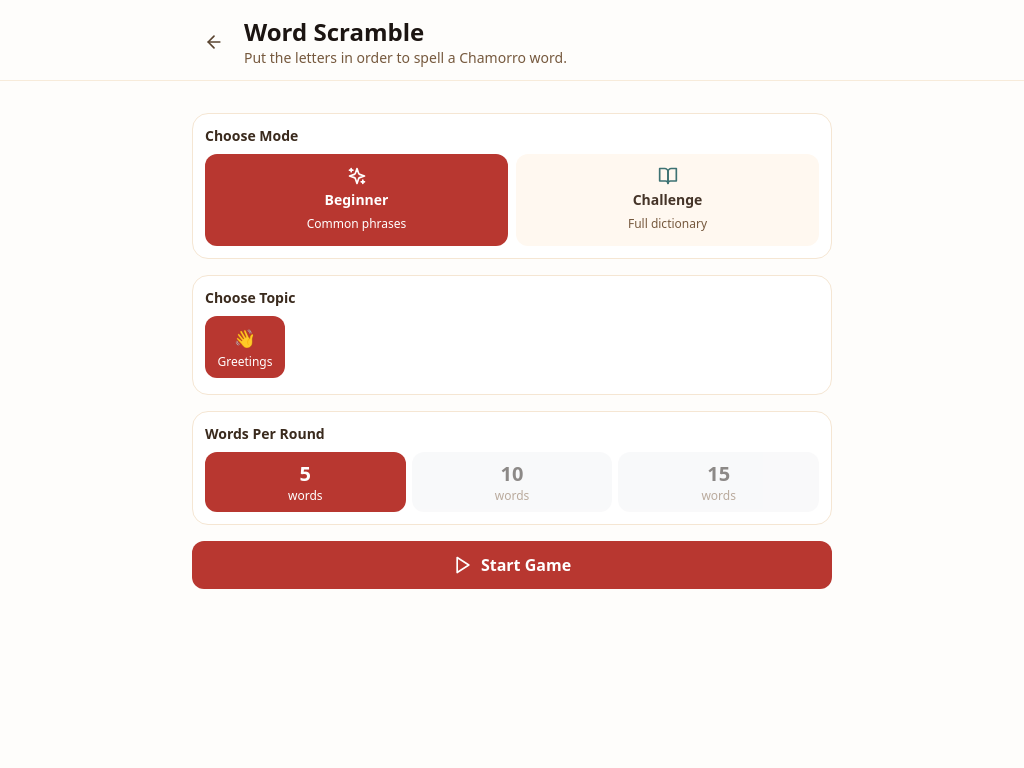
Scenario: Word Scramble earned points and space tiles › labels a visible space tile, exposes selection, and requires it to spell a phrase
Later steps or results of the test are not shown.
Click the button "Start Game". click: (512, 565)
box: x1=192 y1=541 x2=832 y2=589
Wait 37000 ms
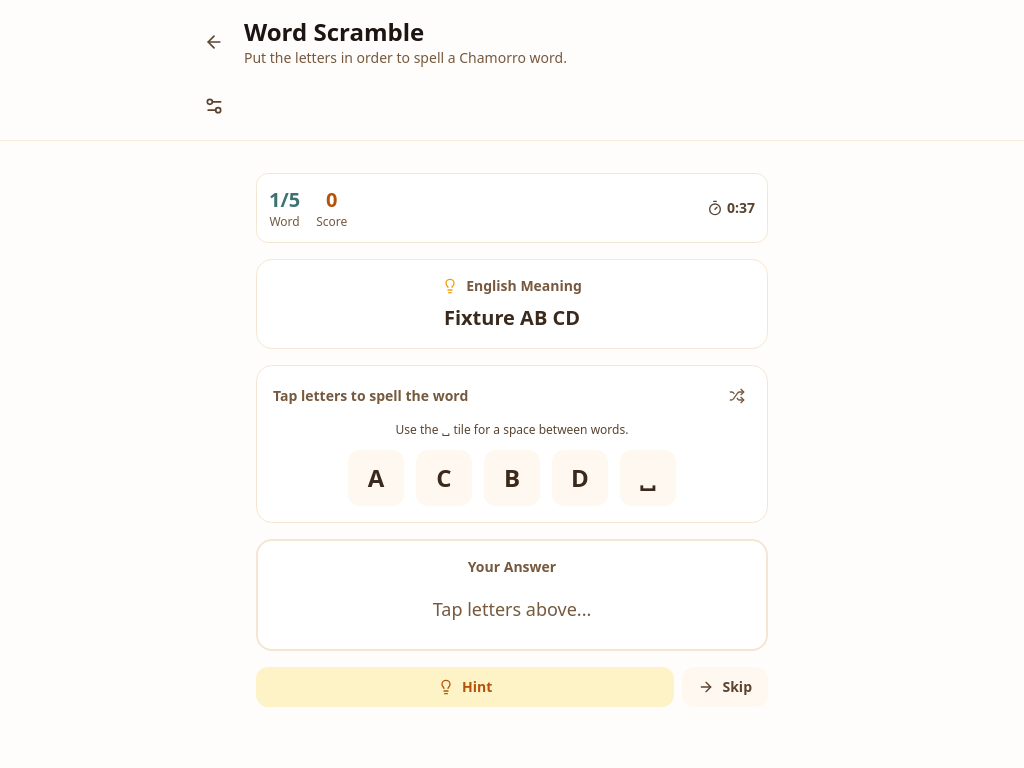
Check: the text "Use the ␣ tile for a space between words." is shown, box x1=396 y1=421 x2=628 y2=438
Check: the button named "Space" reads "␣"
Click the button named "Space". click: (648, 478)
box: x1=620 y1=450 x2=676 y2=506
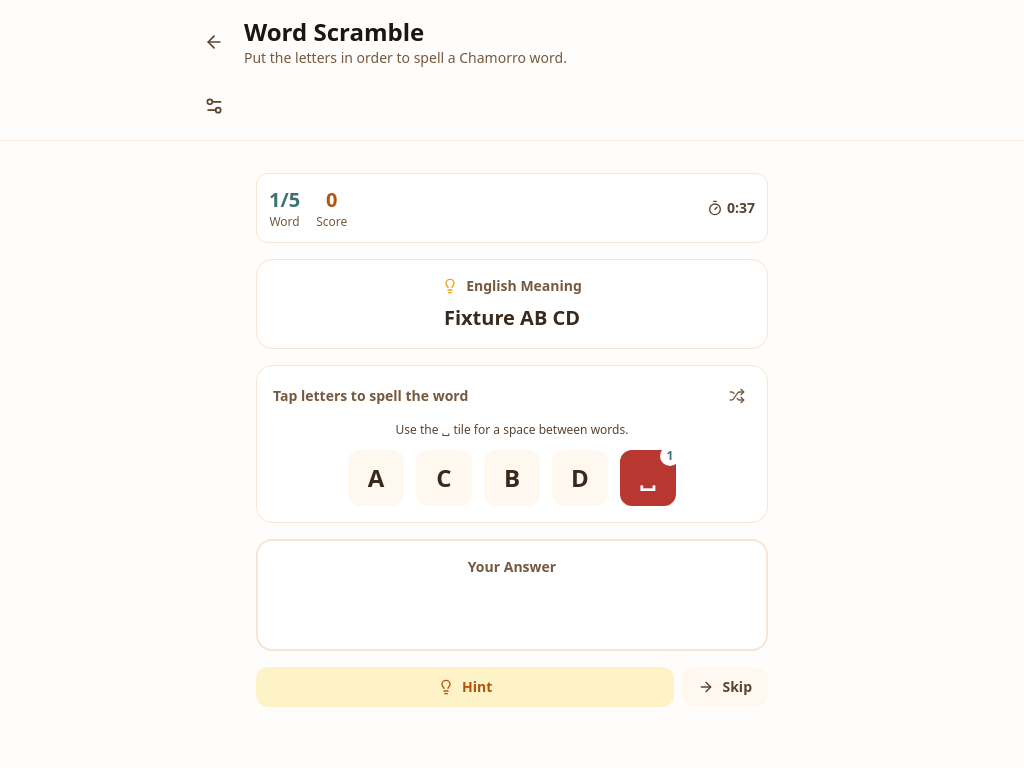
Check: the button named "Space" is pressed
Click the button named "Space". click: (648, 478)
box: x1=620 y1=450 x2=676 y2=506
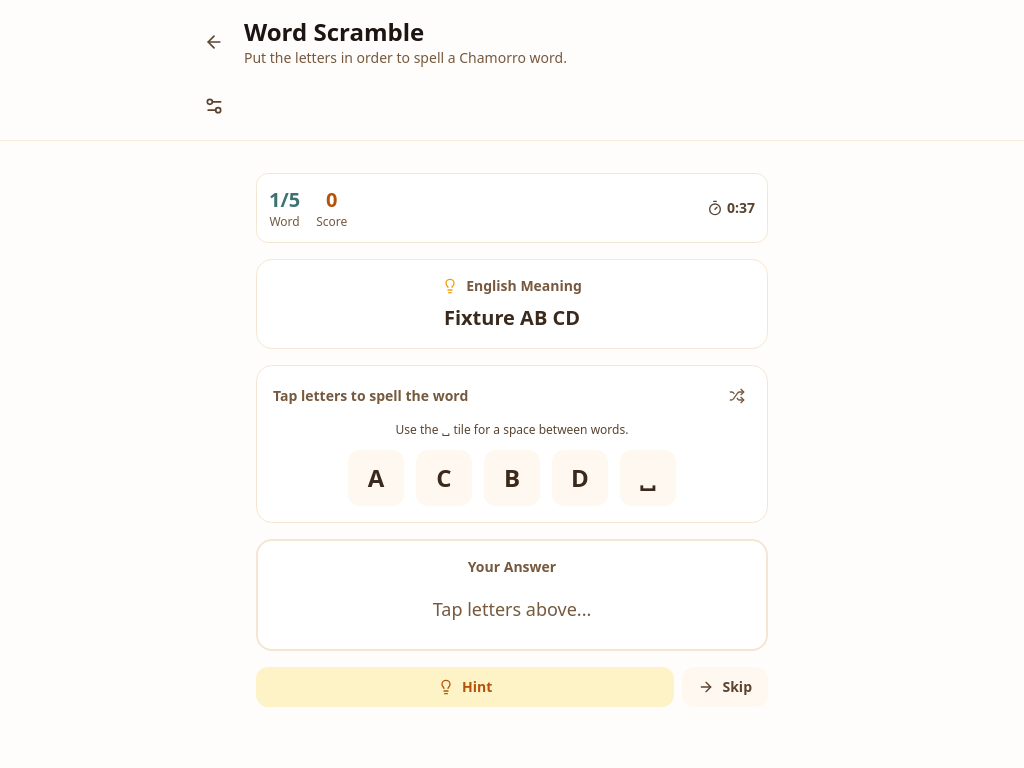
Check: the button named "Space" is not pressed, box x1=620 y1=450 x2=676 y2=506
